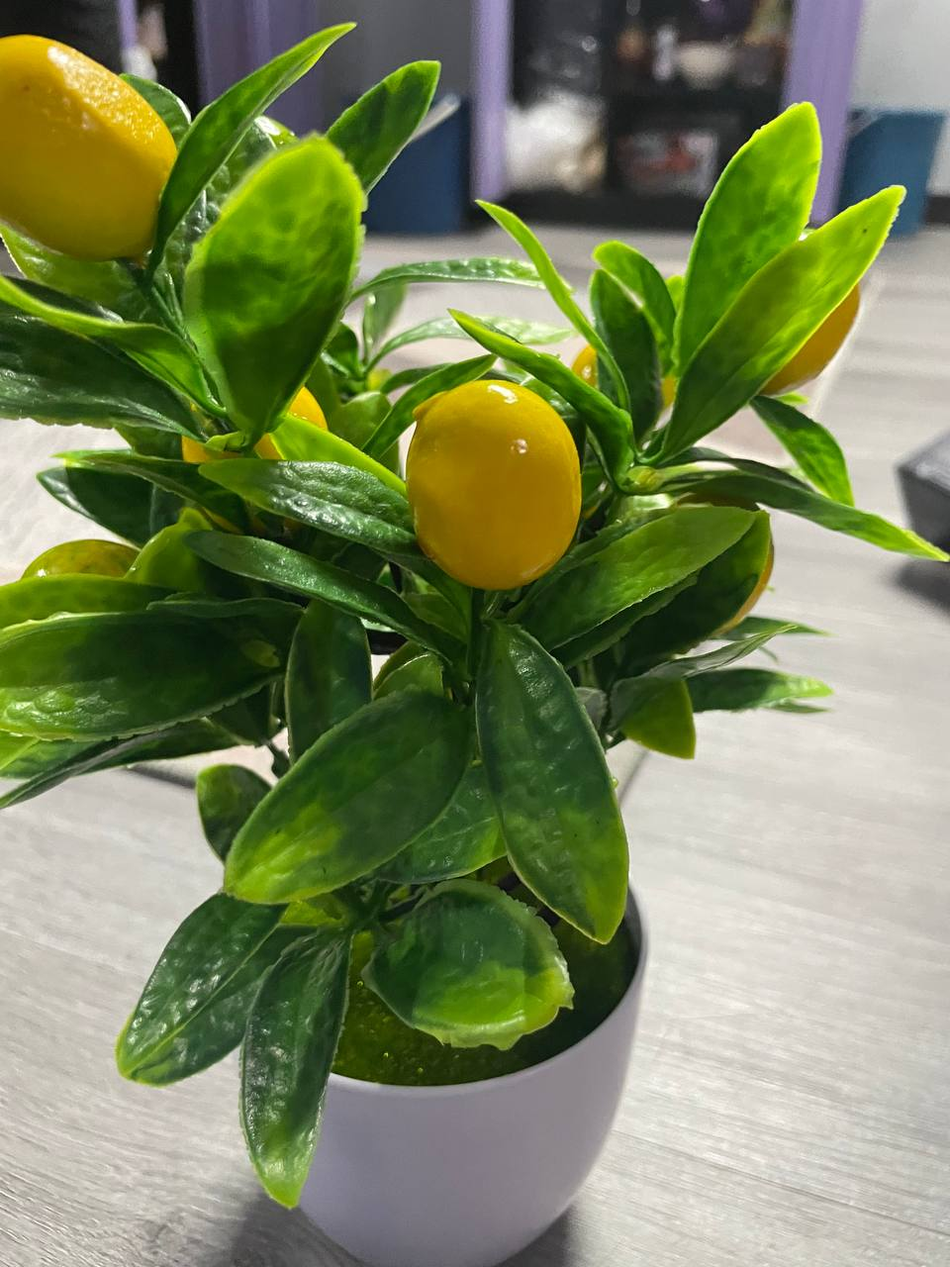lime_ripe: (0, 34, 178, 264), (408, 379, 585, 592)
